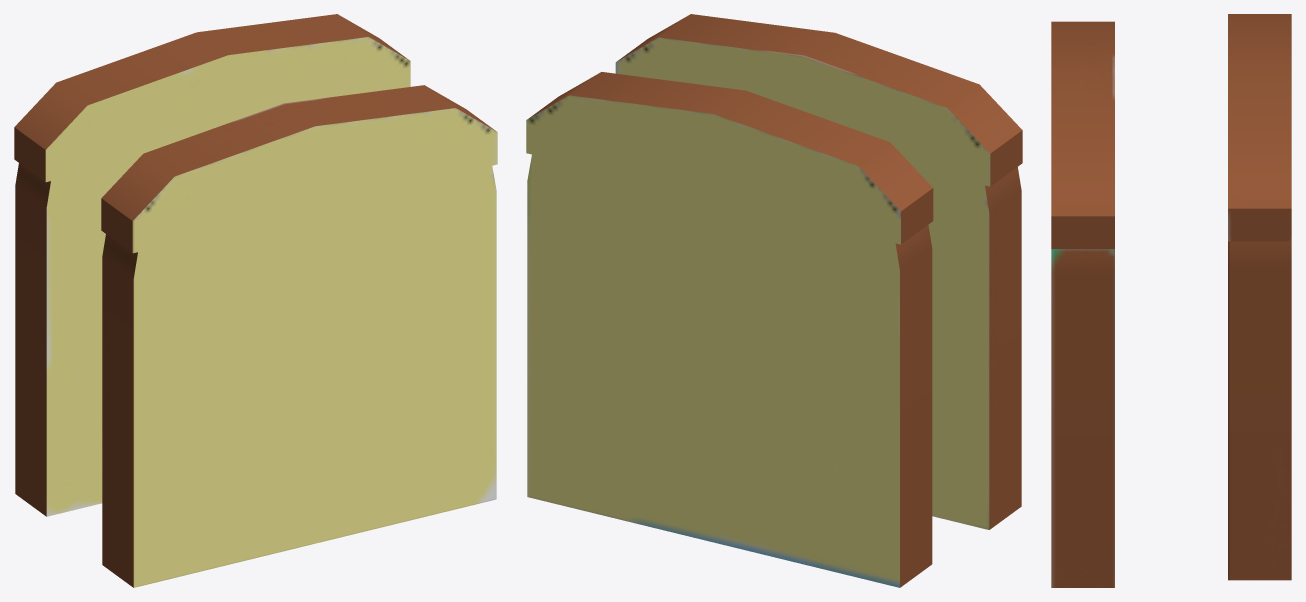
Rendered from bread01.fbx.
The picture shows the model from 3 angles, left to right: view 1: azimuth 30°, elevation 25°; view 2: azimuth 150°, elevation 25°; view 3: azimuth 270°, elevation 25°; orthographic projection. The views are drawn at different scales.
Visible parts, largest first — view 1: bread01; view 2: bread01; view 3: bread01.
Boxes of the visible parts, <box> form: bread01: <box>14,14,497,587</box>; bread01: <box>526,14,1022,587</box>; bread01: <box>1051,14,1291,587</box>.
Size of the model in its own units: 1.21 by 1.35 by 0.6821.
